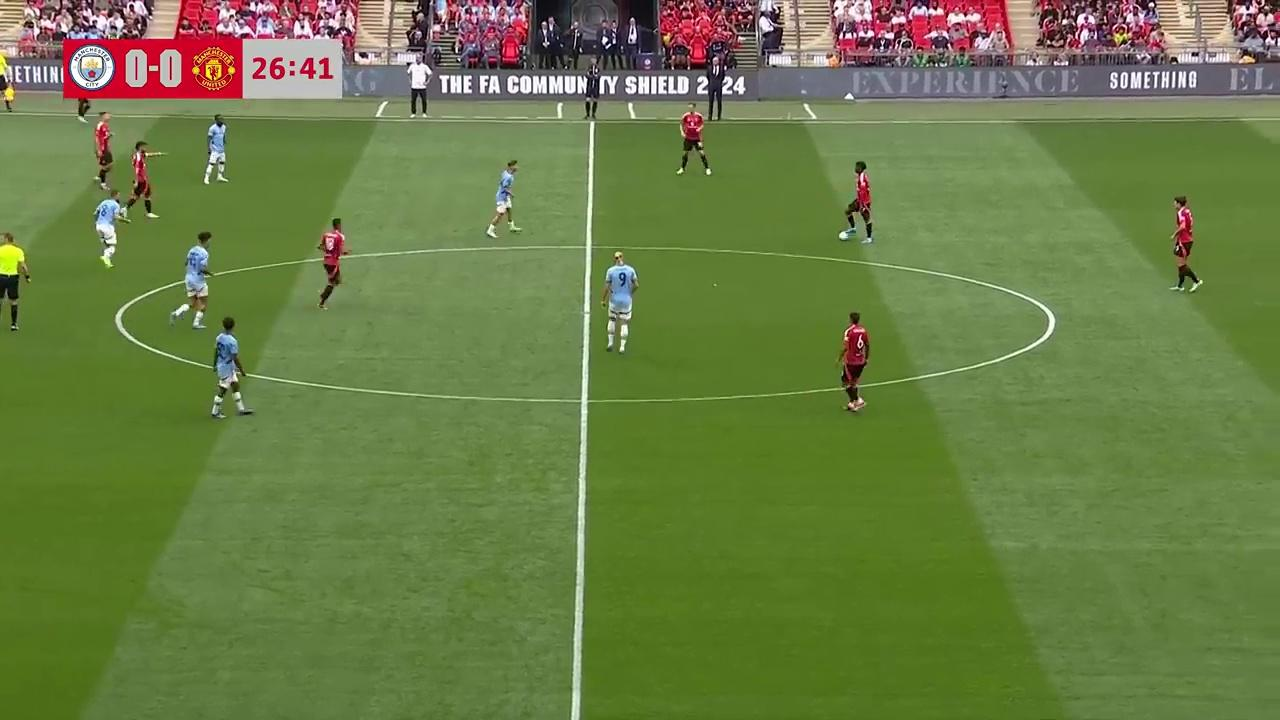ball: (837, 227, 848, 241)
player: (209, 316, 253, 419), (168, 231, 212, 330), (600, 249, 639, 353), (836, 312, 869, 412), (124, 140, 163, 222), (316, 218, 350, 309), (839, 161, 874, 243), (1170, 200, 1201, 292), (486, 159, 521, 238), (677, 105, 712, 176), (93, 190, 122, 268), (203, 113, 229, 184), (93, 111, 113, 188), (72, 75, 92, 123)
referee: (0, 231, 31, 331), (0, 60, 16, 113)
